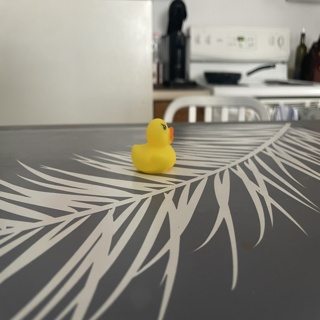duck_regular: (129, 117, 174, 175)
